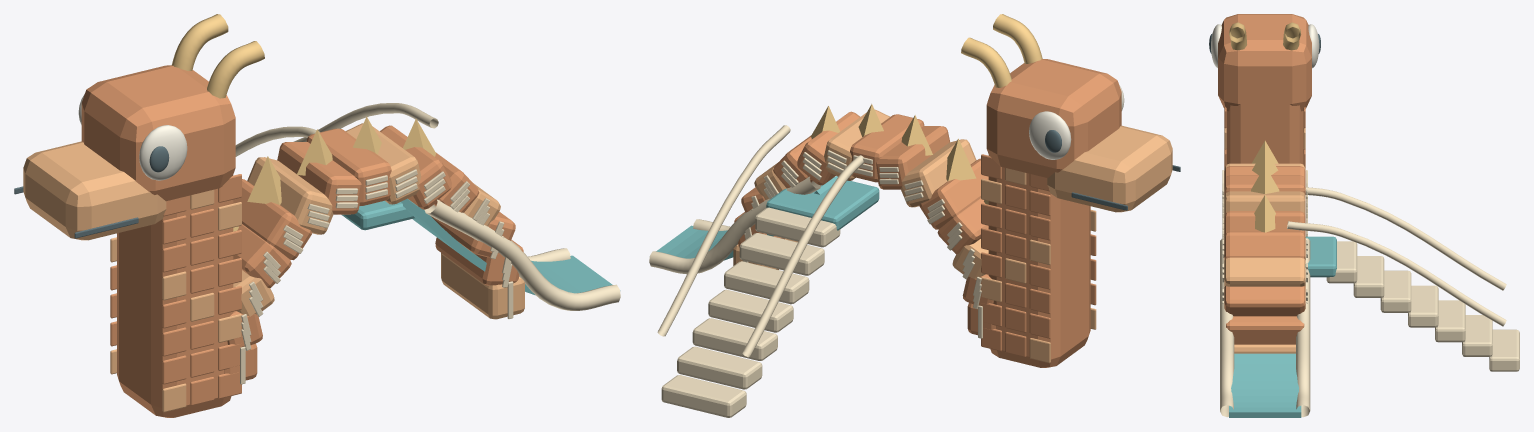
Rendered from dragon-playground.glb.
The picture shows the model from 3 angles, left to right: view 1: azimuth 30°, elevation 25°; view 2: azimuth 150°, elevation 25°; view 3: azimuth 270°, elevation 25°; orthographic projection. The views are drawn at different scales.
Visible parts, largest first — view 1: Dragon forehead, Dragon neck, Rounded snout, Slide rail, Turquoise slide surface, Body mosaic arch, Body mosaic arch.008, Body mosaic arch.007, Body mosaic arch.010, Body mosaic arch.009, Big porcelain eye, Body mosaic arch.006 (+34 smaller); view 2: Dragon forehead, Dragon neck, Rounded snout, Slide landing, Access step, Access step.001, Stair handrail.001, Slide rail.001, Stair handrail, Access step.002, Access step.003, Access step.005 (+17 smaller); view 3: Dragon forehead, Dragon neck, Turquoise slide surface, Body mosaic arch.002, Body mosaic arch.003, Body mosaic arch.004, Body mosaic arch.001, Stair handrail.001, Stair handrail, Slide rail.001, Slide rail, Body mosaic arch.006 (+19 smaller).
Boxes of the visible parts, bbox=[...] form: Dragon forehead: bbox=[81, 65, 235, 201]; Dragon neck: bbox=[117, 175, 233, 417]; Rounded snout: bbox=[23, 141, 166, 240]; Slide rail: bbox=[424, 199, 620, 310]; Turquoise slide surface: bbox=[401, 199, 620, 295]; Body mosaic arch: bbox=[441, 253, 524, 319]; Body mosaic arch.008: bbox=[277, 142, 361, 214]; Body mosaic arch.007: bbox=[306, 128, 391, 205]; Body mosaic arch.010: bbox=[233, 179, 312, 260]; Body mosaic arch.009: bbox=[247, 157, 333, 234]; Big porcelain eye: bbox=[139, 125, 187, 180]; Body mosaic arch.006: bbox=[345, 123, 421, 204]; Dragon forehead: bbox=[986, 59, 1121, 177]; Dragon neck: bbox=[988, 155, 1090, 367]; Rounded snout: bbox=[1047, 125, 1172, 212]; Slide landing: bbox=[766, 177, 879, 230]; Access step: bbox=[661, 375, 746, 417]; Access step.001: bbox=[677, 346, 762, 389]; Stair handrail.001: bbox=[657, 125, 790, 336]; Slide rail.001: bbox=[649, 176, 821, 274]; Stair handrail: bbox=[742, 155, 863, 357]; Access step.002: bbox=[692, 318, 777, 360]; Access step.003: bbox=[708, 289, 793, 332]; Access step.005: bbox=[739, 233, 824, 275]; Dragon forehead: bbox=[1218, 14, 1311, 111]; Dragon neck: bbox=[1226, 98, 1303, 164]; Turquoise slide surface: bbox=[1229, 353, 1301, 417]; Body mosaic arch.002: bbox=[1224, 286, 1305, 316]; Body mosaic arch.003: bbox=[1224, 257, 1305, 286]; Body mosaic arch.004: bbox=[1224, 231, 1305, 260]; Body mosaic arch.001: bbox=[1226, 316, 1304, 344]; Stair handrail.001: bbox=[1287, 221, 1506, 326]; Stair handrail: bbox=[1305, 187, 1506, 290]; Slide rail.001: bbox=[1296, 238, 1310, 417]; Slide rail: bbox=[1220, 238, 1234, 417]; Body mosaic arch.006: bbox=[1224, 191, 1305, 215].
Size of the model in its own units: 5.36 by 3.32 by 3.44.
